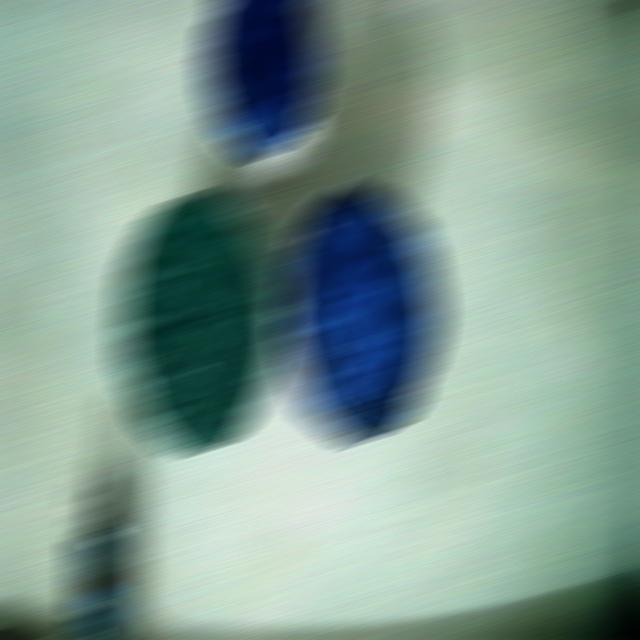blue: (280, 183, 441, 444), (202, 0, 323, 159)
green: (116, 190, 283, 453)
